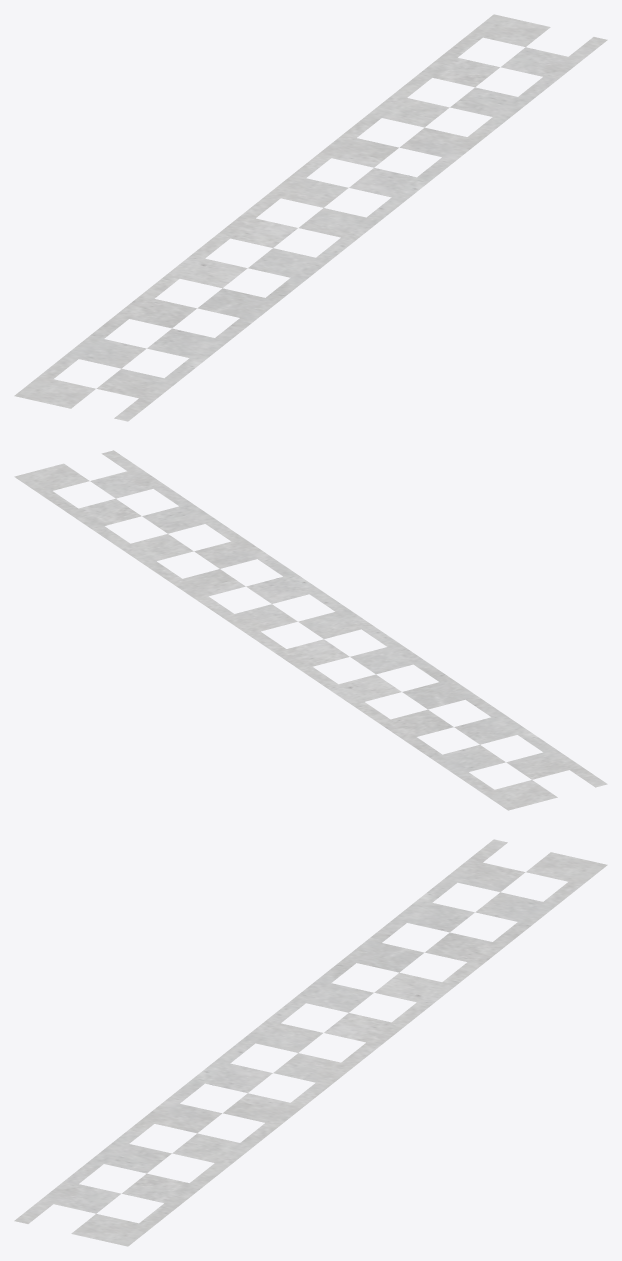
The model's file is Monaco_track_road_finishline.dae.
The picture shows the model from 3 angles, top to bottom: view 1: azimuth 90°, elevation 25°; view 2: azimuth 150°, elevation 25°; view 3: azimuth 270°, elevation 25°; orthographic projection. The views are drawn at different scales.
Visible parts, largest first — view 1: finishline; view 2: finishline; view 3: finishline.
Boxes of the visible parts, x1,y1,x2,y2 form: finishline: (14,14,607,421); finishline: (14,450,607,810); finishline: (14,839,607,1246).
Size of the model in its own units: 1.37 by 0.845 by 0.
1 material, 1 textured.
